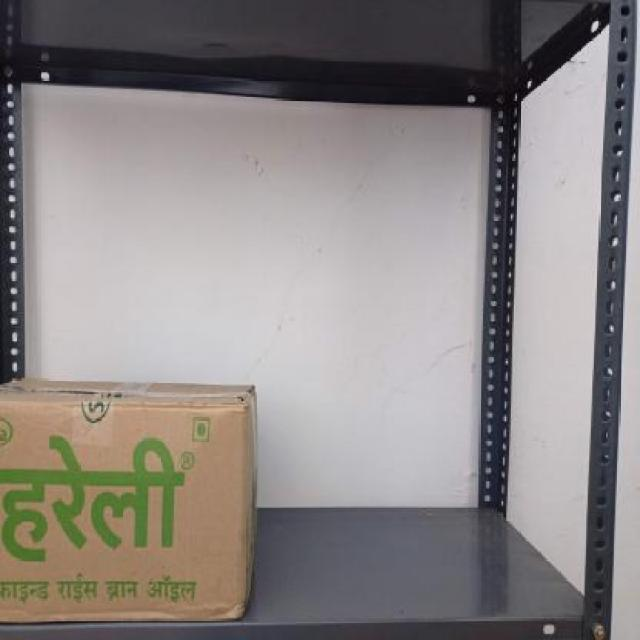box: (0, 400, 252, 624)
